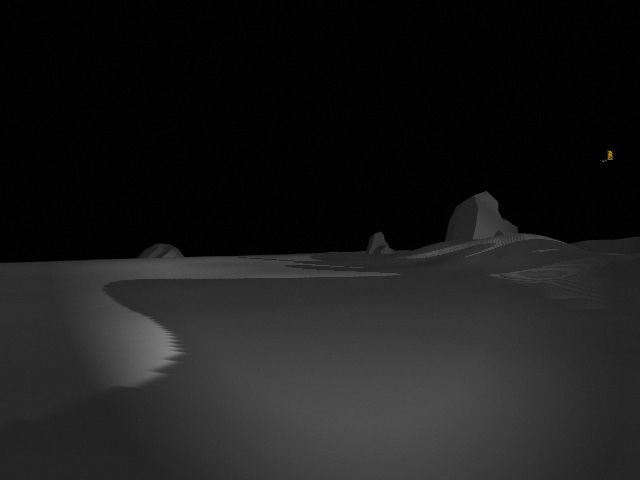cubesat: (600, 149, 615, 166)
